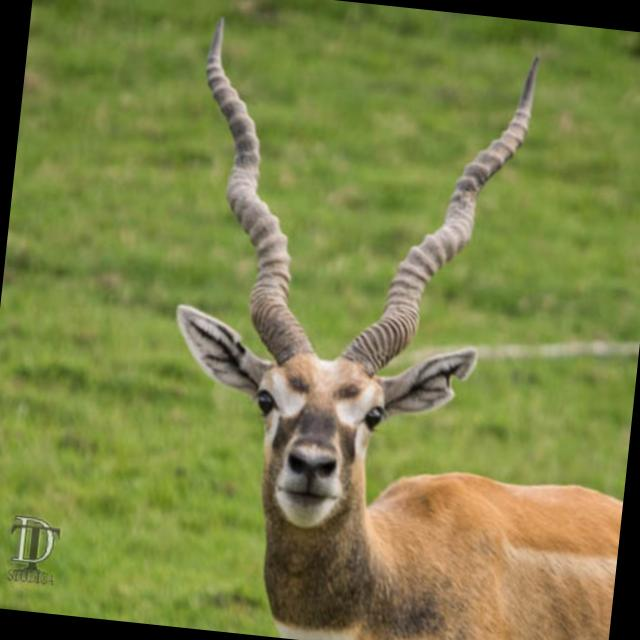deer: (104, 35, 617, 640)
